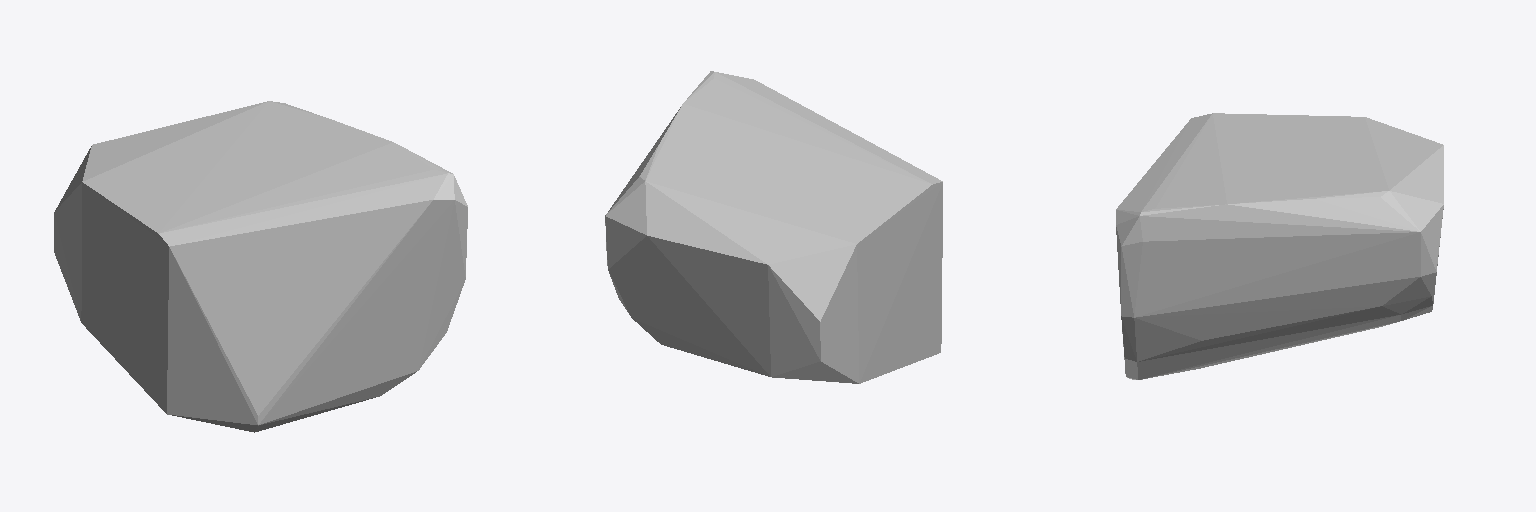
The model's file is drainer_collision_3.obj.
The picture shows the model from 3 angles: view 1: azimuth 30°, elevation 25°; view 2: azimuth 150°, elevation 25°; view 3: azimuth 270°, elevation 25°; orthographic projection.
Size of the model in its own units: 0.0946 by 0.0721 by 0.1011.